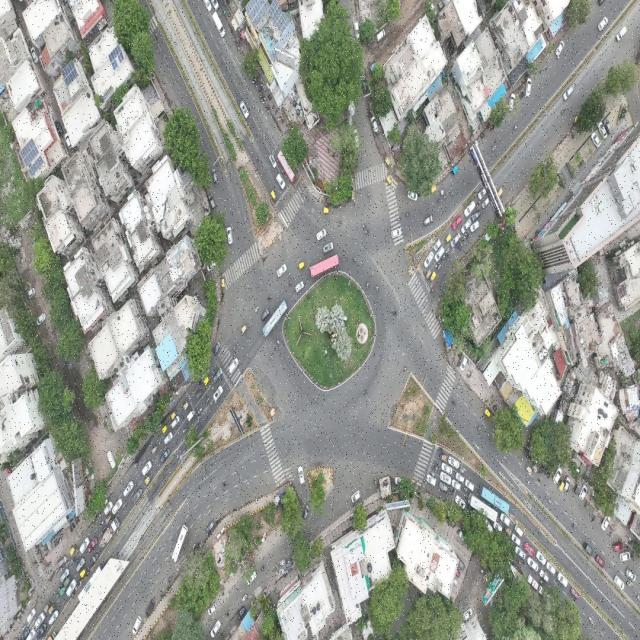3W: (170, 403, 178, 422), (150, 442, 160, 456), (503, 524, 513, 538), (143, 471, 152, 486), (161, 420, 170, 435), (182, 398, 191, 413), (572, 482, 581, 497), (482, 405, 492, 418), (43, 598, 51, 614), (203, 372, 211, 388), (384, 153, 392, 169), (572, 112, 581, 126), (269, 188, 277, 203), (48, 602, 57, 615), (63, 574, 72, 587), (451, 165, 460, 178), (439, 451, 448, 464), (105, 512, 113, 526), (240, 321, 248, 335), (79, 566, 88, 578), (69, 544, 78, 556), (297, 260, 306, 272), (385, 174, 393, 187), (322, 205, 331, 216), (430, 184, 438, 196), (497, 185, 504, 198), (425, 268, 432, 281), (429, 270, 436, 283), (558, 481, 565, 494), (59, 586, 67, 597), (196, 389, 203, 401), (220, 276, 226, 290), (444, 233, 451, 245)
Bus: (74, 561, 107, 605), (467, 488, 500, 527), (261, 297, 291, 339), (477, 480, 512, 516), (308, 254, 341, 282), (170, 521, 189, 566), (276, 150, 296, 185)
Cars: (130, 614, 142, 640), (348, 485, 362, 506), (295, 462, 306, 488), (209, 616, 222, 638), (245, 568, 259, 588), (612, 572, 626, 592), (144, 597, 156, 620), (600, 511, 612, 534), (562, 83, 575, 104), (320, 239, 336, 256), (130, 486, 144, 505), (204, 514, 215, 538), (224, 224, 235, 248), (552, 464, 564, 486), (78, 536, 91, 556), (212, 385, 225, 405), (301, 500, 311, 526), (589, 130, 602, 150), (142, 458, 154, 479), (275, 170, 287, 191), (423, 249, 435, 270), (58, 566, 71, 585), (122, 479, 135, 498), (161, 430, 174, 449), (449, 231, 462, 250), (557, 571, 570, 590), (535, 548, 548, 567), (239, 98, 250, 120), (267, 148, 278, 170), (66, 577, 78, 597), (159, 447, 171, 467), (228, 356, 240, 376), (206, 599, 218, 619), (554, 37, 564, 61), (464, 198, 476, 218), (595, 552, 607, 572), (499, 512, 514, 528), (111, 496, 124, 514), (352, 126, 361, 152), (464, 478, 477, 496), (578, 481, 588, 504), (597, 14, 609, 33), (434, 244, 446, 263), (276, 258, 286, 280), (210, 166, 220, 188), (352, 20, 362, 42), (597, 120, 608, 140), (603, 116, 614, 136), (87, 535, 99, 553), (236, 605, 248, 623), (213, 365, 223, 386), (314, 227, 328, 242), (374, 28, 387, 44), (526, 556, 539, 572), (524, 77, 533, 100), (25, 607, 37, 624), (35, 623, 47, 640), (460, 218, 472, 235), (523, 541, 535, 558), (48, 609, 59, 627), (103, 498, 114, 516), (451, 213, 462, 231), (583, 540, 594, 558), (615, 27, 628, 42), (406, 186, 418, 202), (569, 586, 581, 602), (454, 494, 466, 510), (370, 115, 380, 134), (88, 552, 99, 569), (390, 226, 403, 240), (624, 570, 637, 584), (514, 546, 528, 559), (212, 338, 221, 358), (507, 93, 516, 113), (459, 354, 468, 374), (441, 460, 453, 475), (57, 552, 68, 568), (294, 280, 305, 296), (440, 470, 451, 486), (426, 472, 437, 488), (208, 192, 217, 211), (171, 414, 181, 431), (423, 214, 434, 229), (470, 218, 481, 233), (546, 560, 557, 575), (451, 478, 462, 493), (448, 454, 459, 469), (261, 307, 271, 323), (619, 550, 631, 563), (511, 532, 522, 546), (563, 476, 571, 495), (76, 556, 86, 571), (35, 613, 46, 626), (202, 0, 213, 13), (539, 569, 550, 582), (20, 626, 30, 640), (360, 74, 367, 94), (514, 524, 524, 538), (612, 541, 624, 552), (26, 627, 36, 640), (493, 520, 503, 533), (455, 471, 465, 484), (439, 481, 449, 494), (478, 186, 487, 200), (433, 238, 442, 252), (472, 209, 482, 221), (481, 197, 490, 210)
LCV: (211, 7, 227, 39), (526, 573, 539, 591), (186, 408, 196, 424)
M2W: (569, 520, 578, 531), (590, 511, 597, 525), (259, 562, 267, 574), (220, 476, 227, 489), (537, 577, 546, 587), (559, 105, 566, 117), (524, 476, 531, 488), (587, 614, 595, 624), (351, 255, 359, 264), (395, 214, 403, 223), (490, 144, 498, 153), (54, 533, 59, 547), (231, 343, 238, 353), (253, 304, 260, 314), (392, 308, 399, 318), (450, 398, 457, 408), (547, 497, 554, 507), (462, 484, 469, 494), (361, 388, 368, 398), (153, 29, 159, 40), (375, 282, 381, 293), (225, 608, 231, 619), (269, 349, 274, 362), (262, 129, 267, 142), (192, 541, 197, 554), (30, 558, 39, 565), (98, 520, 105, 529), (107, 517, 114, 526), (133, 460, 140, 469), (626, 580, 633, 589), (68, 524, 74, 534), (204, 394, 210, 404), (275, 336, 281, 346), (266, 293, 272, 303), (286, 270, 292, 280), (450, 188, 456, 198), (513, 121, 518, 133), (440, 253, 446, 263), (402, 364, 408, 374), (476, 423, 482, 433), (449, 484, 455, 494), (438, 444, 444, 454), (436, 458, 442, 468), (52, 536, 56, 550), (59, 565, 66, 573), (608, 532, 615, 540), (514, 557, 522, 564), (432, 464, 439, 472), (429, 470, 436, 478), (22, 623, 28, 632), (65, 559, 71, 568), (198, 378, 204, 387), (288, 279, 294, 288), (436, 196, 442, 205), (443, 192, 449, 201), (475, 200, 481, 209), (623, 542, 629, 551), (458, 466, 464, 475), (365, 229, 372, 236), (361, 223, 368, 230), (404, 211, 411, 218), (58, 532, 62, 544), (84, 570, 90, 578), (100, 528, 106, 536), (182, 426, 188, 434), (197, 406, 203, 414), (466, 232, 472, 240), (455, 241, 461, 249), (422, 478, 428, 486), (71, 556, 76, 565), (367, 190, 372, 199), (365, 281, 370, 290), (458, 241, 463, 250), (57, 585, 63, 592), (196, 415, 202, 422), (260, 80, 266, 87), (258, 94, 265, 100), (337, 220, 343, 227), (445, 247, 451, 254), (430, 287, 436, 294), (75, 545, 80, 553), (264, 102, 268, 112), (520, 94, 525, 102), (435, 261, 440, 269), (437, 263, 442, 271), (534, 458, 538, 468), (39, 558, 45, 564), (72, 521, 76, 530), (234, 46, 240, 52), (251, 78, 257, 84), (257, 86, 263, 92), (479, 134, 485, 140), (463, 230, 469, 236), (524, 448, 528, 457), (74, 584, 79, 591), (79, 578, 84, 585), (254, 80, 259, 87), (445, 253, 450, 260), (629, 538, 634, 545), (71, 592, 75, 600), (266, 93, 270, 101), (520, 85, 524, 93), (61, 532, 64, 542), (76, 559, 81, 565), (538, 467, 543, 473), (56, 594, 60, 601), (262, 97, 266, 104), (268, 96, 272, 103), (266, 106, 270, 113), (527, 451, 530, 460), (461, 237, 466, 242), (75, 518, 78, 526), (256, 83, 260, 89), (546, 469, 549, 477)
Truck: (97, 516, 122, 552)
